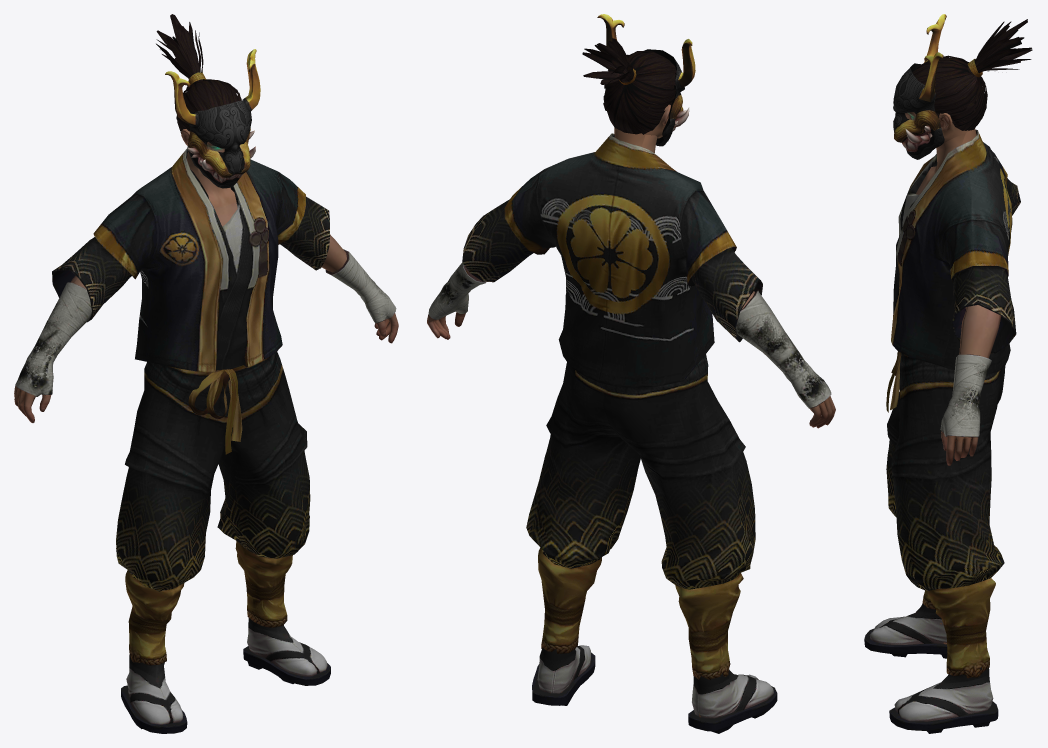
Rendered from golden.fbx.
3 views of the same model, side by side, from view 1: azimuth 30°, elevation 25°; view 2: azimuth 150°, elevation 25°; view 3: azimuth 270°, elevation 25° (orthographic). The views are drawn at different scales.
Visible parts, largest first — view 1: Object_6, Object_3, Object_2, Object_4, Object_5, Object_7; view 2: Object_3, Object_6, Object_2, Object_5, Object_7, Object_4; view 3: Object_3, Object_6, Object_2, Object_5, Object_4, Object_7.
Boxes of the visible parts, x1=… form: Object_6: x1=116, y1=351, x2=310, y2=665; Object_3: x1=15, y1=148, x2=396, y2=396; Object_2: x1=121, y1=618, x2=330, y2=733; Object_4: x1=165, y1=49, x2=260, y2=188; Object_5: x1=156, y1=14, x2=242, y2=133; Object_7: x1=14, y1=129, x2=398, y2=650; Object_3: x1=428, y1=133, x2=831, y2=408; Object_6: x1=526, y1=354, x2=755, y2=680; Object_2: x1=532, y1=642, x2=777, y2=733; Object_5: x1=582, y1=38, x2=676, y2=144; Object_7: x1=427, y1=104, x2=835, y2=717; Object_4: x1=597, y1=14, x2=695, y2=146; Object_3: x1=891, y1=129, x2=1020, y2=437; Object_6: x1=886, y1=351, x2=1005, y2=678; Object_2: x1=864, y1=603, x2=998, y2=733; Object_5: x1=910, y1=19, x2=1032, y2=130; Object_4: x1=893, y1=14, x2=946, y2=159; Object_7: x1=905, y1=112, x2=1001, y2=644.
Bounding box in the file's own units: 311 × 515 × 118.
Materials: 6 (6 with a texture image).
